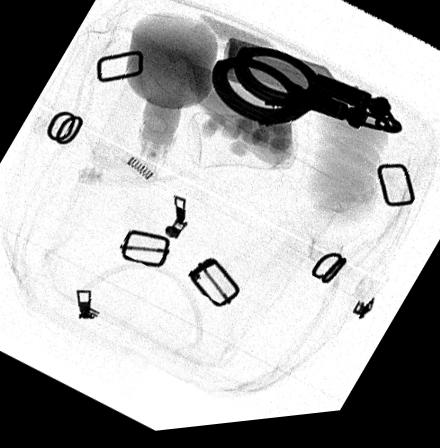HandCuffs: (211, 50, 402, 141)
